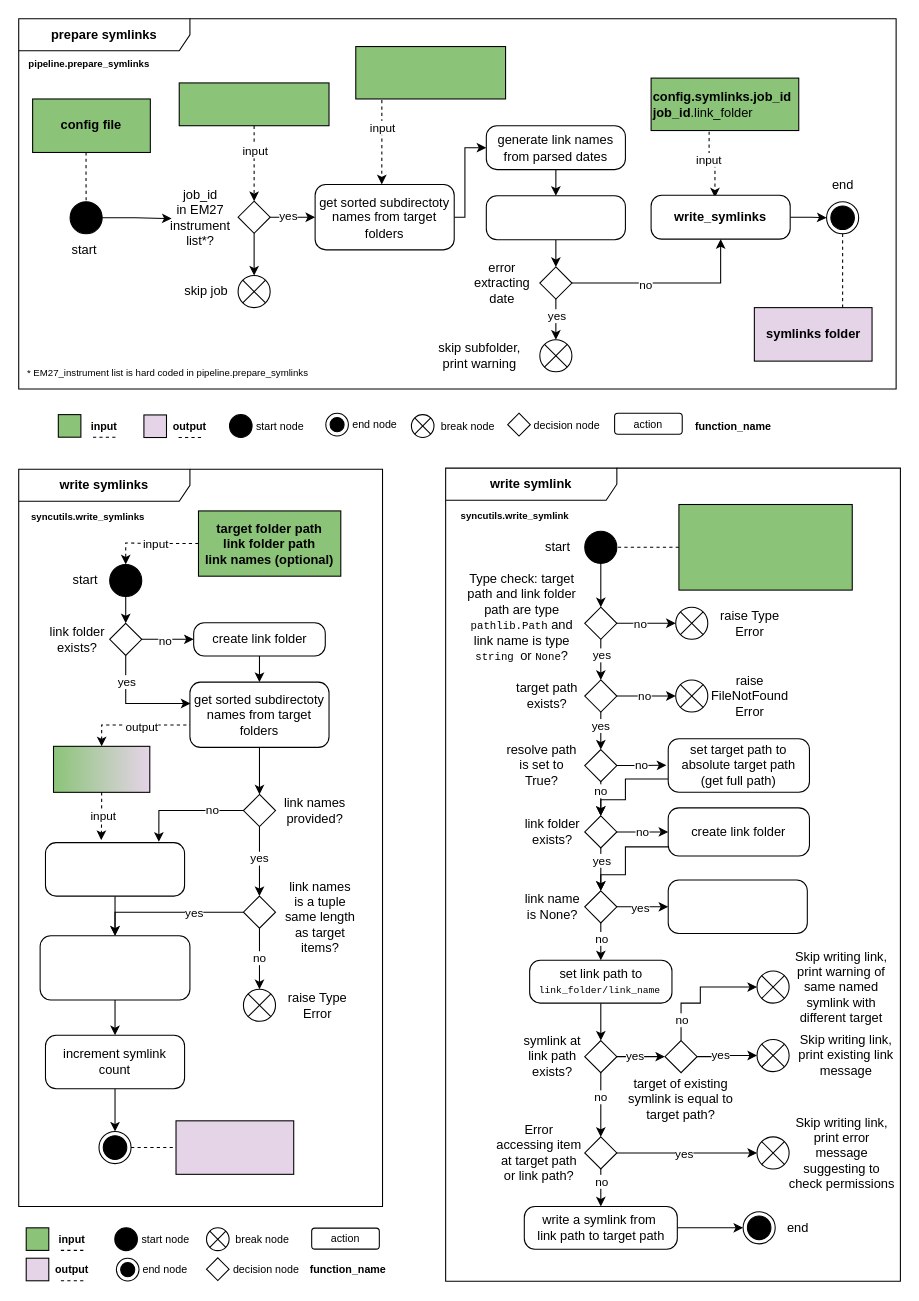
This 919x1301 diagram has some shape labels left out. Here are the shapes that lost their labels. From the top down, the box of each, then its label:
(355, 45, 506, 99): config.symlinks.job_id job_id .target_folders
(178, 82, 329, 126): config.symlinks.job_id
(485, 195, 625, 240): extract dates from subfolder names
(678, 503, 852, 590): target path link folder path link names (optional) resolve path (default: True)
(52, 745, 150, 792): target items
(44, 842, 185, 896): set link names to names of target items
(667, 879, 807, 934): set link name to target item name
(39, 935, 190, 1000): for each pair (link_name, target_item): write_symlink
(175, 1120, 294, 1174): symlink count
